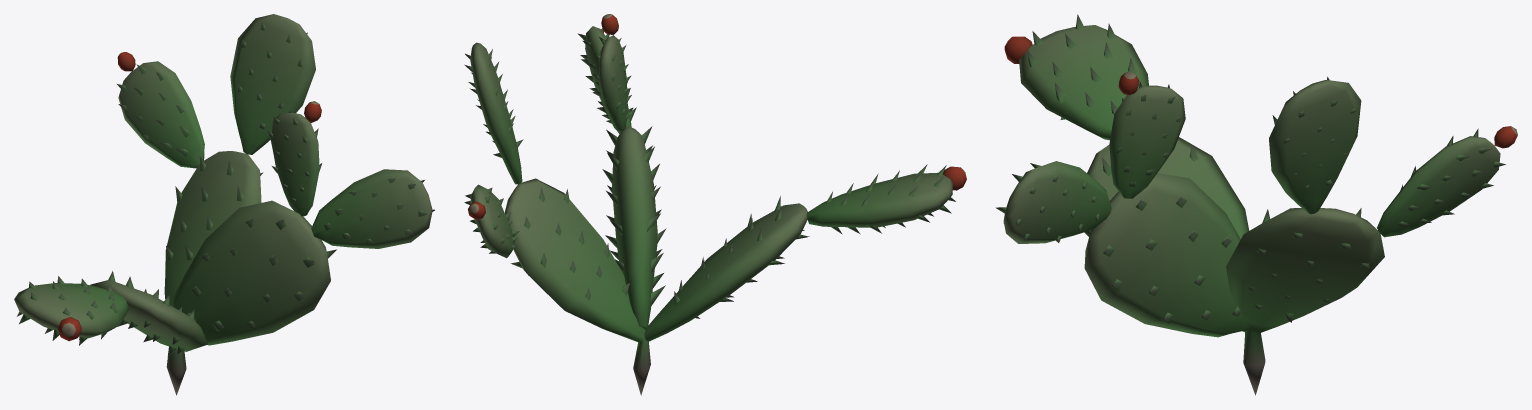
File: plants-cacti-succulents-prickly-pear_v1.glb
3 renders of one model, left to right at view 1: azimuth 30°, elevation 25°; view 2: azimuth 150°, elevation 25°; view 3: azimuth 270°, elevation 25°, orthographic. The views are drawn at different scales.
Parts seen in each view (by area): view 1: Prickly Pear_v1; view 2: Prickly Pear_v1; view 3: Prickly Pear_v1.
Boxes of the visible parts, bbox=[...] form: Prickly Pear_v1: bbox=[14, 14, 434, 395]; Prickly Pear_v1: bbox=[464, 14, 966, 395]; Prickly Pear_v1: bbox=[995, 14, 1517, 395].
Size of the model in its own units: 1 by 0.8024 by 0.9738.
